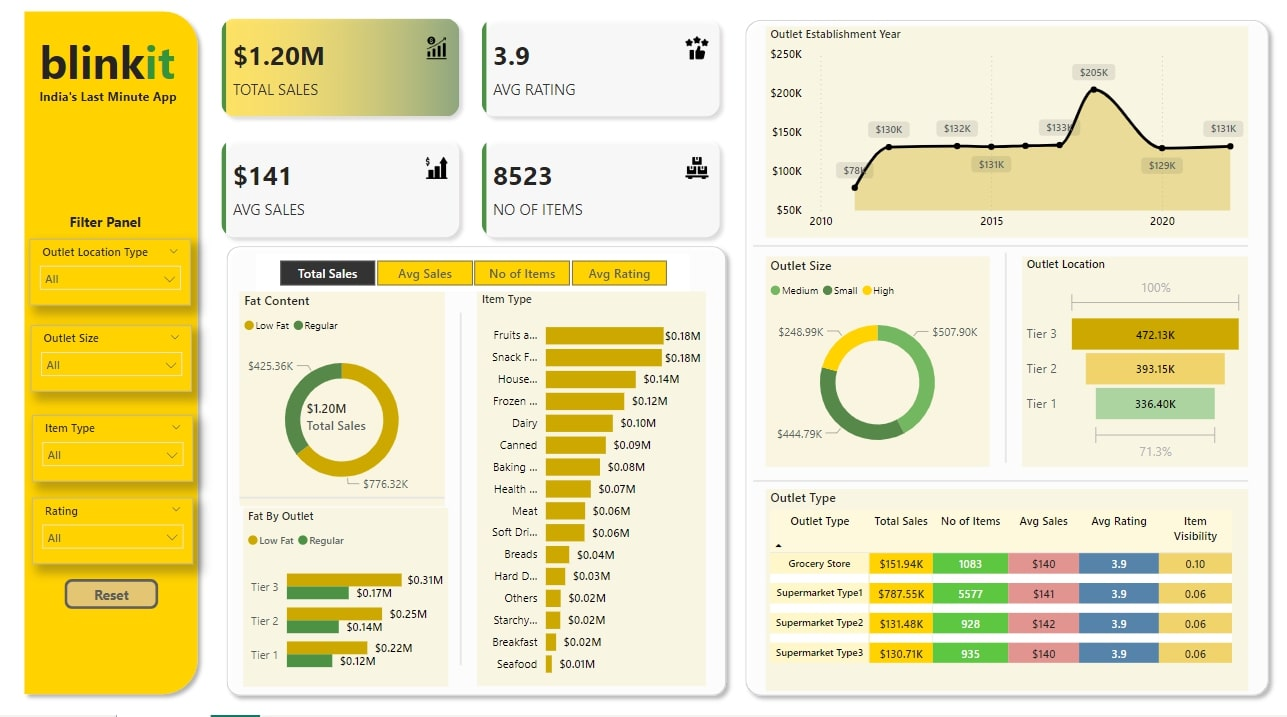

The dashboard page shown, as its layout file describes it:
{"tool":"powerbi","page":{"name":"Page 1","canvas":[1400,800],"ordinal":0},"visuals":[{"type":"shape","box":[25.5,36,204.1,750.4],"z":0},{"type":"textbox","box":[45,61.5,163.6,75],"z":1000},{"type":"textbox","box":[45,121.6,204.1,49.5],"z":2000},{"type":"cardVisual","fields":{"Data":["BlinkIT Grocery Data.Total Sales","BlinkIT Grocery Data.Avg Rating","BlinkIT Grocery Data.Avg Sales","BlinkIT Grocery Data.No of Items"]},"box":[229.2,36.2,569.7,269.4],"z":3000},{"type":"shape","box":[242.6,288.2,553.6,500],"z":4000},{"type":"donutChart","title":"Fat Content","fields":{"Y":["BlinkIT Grocery Data.Total Sales"],"Category":["BlinkIT Grocery Data.Item Fat Content"]},"box":[265.4,345.8,219.8,230.6],"z":5000},{"type":"slicer","fields":{"Values":["Metrics.Metrics"]},"box":[282.8,305.6,465.1,40.2],"z":6000},{"type":"cardVisual","fields":{"Data":["BlinkIT Grocery Data.Total Sales"]},"box":[320.4,443.7,118,72.4],"z":7000},{"type":"clusteredBarChart","title":"Fat By Outlet","fields":{"Y":["BlinkIT Grocery Data.Total Sales"],"Category":["BlinkIT Grocery Data.Outlet Location Type"],"Series":["BlinkIT Grocery Data.Item Fat Content"]},"box":[269.4,577.8,219.8,191.7],"z":8000},{"type":"shape","box":[265.4,557.6,219.8,18.8],"z":9000},{"type":"shape","box":[485.3,368.6,34.9,378],"z":10000},{"type":"barChart","title":"Item Type","fields":{"Y":["BlinkIT Grocery Data.Total Sales"],"Category":["BlinkIT Grocery Data.Item Type"]},"box":[520.1,345.8,245.3,423.6],"z":11000},{"type":"shape","box":[798.9,45.6,579.1,742.6],"z":12000},{"type":"lineChart","title":"Outlet Establishment Year","fields":{"Category":["BlinkIT Grocery Data.Outlet Establishment Year"],"Y":["BlinkIT Grocery Data.Total Sales"]},"box":[829.8,61.7,517.4,226.5],"z":13000},{"type":"shape","box":[816.4,288.2,530.8,17.4],"z":14000},{"type":"donutChart","title":"Outlet Size","fields":{"Category":["BlinkIT Grocery Data.Outlet Size"],"Y":["BlinkIT Grocery Data.Total Sales"]},"box":[829.8,308.3,239.9,225.2],"z":15000},{"type":"shape","box":[1069.7,304.3,34.9,225.2],"z":16000},{"type":"funnel","title":"Outlet Location","fields":{"Category":["BlinkIT Grocery Data.Outlet Location Type"],"Y":["Sum(BlinkIT Grocery Data.Sales)"]},"box":[1104.6,308.3,242.6,225.2],"z":17000},{"type":"shape","box":[816.4,540.2,530.8,17.4],"z":18000},{"type":"pivotTable","title":"Outlet Type","fields":{"Rows":["BlinkIT Grocery Data.Outlet Type"],"Values":["BlinkIT Grocery Data.Total Sales","BlinkIT Grocery Data.No of Items","BlinkIT Grocery Data.Avg Sales","BlinkIT Grocery Data.Avg Rating","Avg(BlinkIT Grocery Data.Item Visibility)"]},"box":[829.8,557.6,517.4,217.2],"z":19000},{"type":"slicer","fields":{"Values":["BlinkIT Grocery Data.Outlet Location Type"]},"box":[40.2,289.5,172.9,71],"z":20000},{"type":"slicer","fields":{"Values":["BlinkIT Grocery Data.Outlet Size"]},"box":[41.6,382,172.9,71],"z":21000},{"type":"slicer","fields":{"Values":["BlinkIT Grocery Data.Item Type"]},"box":[42.9,478.6,172.9,71],"z":22000},{"type":"textbox","box":[77.7,256,104.6,41.6],"z":23000},{"type":"slicer","fields":{"Values":["BlinkIT Grocery Data.Rating"]},"box":[42.9,567,172.9,71],"z":24000},{"type":"actionButton","box":[77.7,654.2,100.5,32.2],"z":25000}]}

Visuals, with their boxes in screenshot pixels (x1, y1, x2, y2), scaled from the page's 1400x800 canvas onto the 1287x717 screenshot:
shape: 23,32,211,705
textbox: 41,55,192,122
textbox: 41,109,229,153
cardVisual - BlinkIT Grocery Data.Total Sales x BlinkIT Grocery Data.Avg Rating: 211,32,734,274
shape: 223,258,732,706
"Fat Content" donutChart: 244,310,446,517
slicer - Metrics.Metrics: 260,274,688,310
cardVisual - BlinkIT Grocery Data.Total Sales: 295,398,403,463
"Fat By Outlet" clusteredBarChart: 248,518,450,690
shape: 244,500,446,517
shape: 446,330,478,669
"Item Type" barChart: 478,310,704,690
shape: 734,41,1267,706
"Outlet Establishment Year" lineChart: 763,55,1238,258
shape: 751,258,1238,274
"Outlet Size" donutChart: 763,276,983,478
shape: 983,273,1015,475
"Outlet Location" funnel: 1015,276,1238,478
shape: 751,484,1238,500
"Outlet Type" pivotTable: 763,500,1238,694
slicer - BlinkIT Grocery Data.Outlet Location Type: 37,259,196,323
slicer - BlinkIT Grocery Data.Outlet Size: 38,342,197,406
slicer - BlinkIT Grocery Data.Item Type: 39,429,198,493
textbox: 71,229,168,267
slicer - BlinkIT Grocery Data.Rating: 39,508,198,572
actionButton: 71,586,164,615
